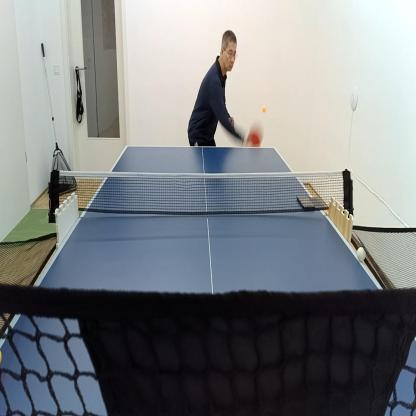Ball: (357, 244, 367, 264), (0, 348, 3, 365), (262, 104, 267, 113)
